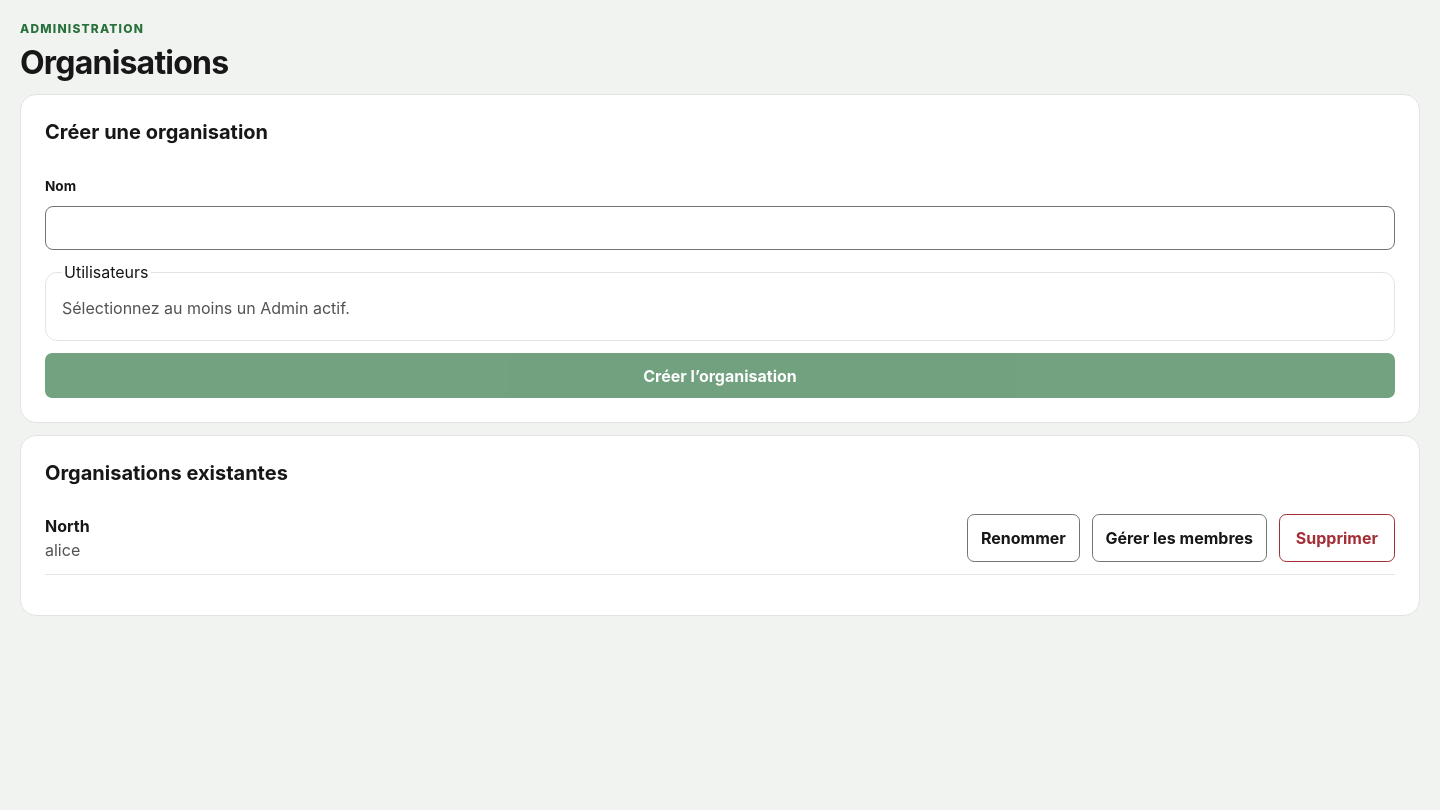
Test case: shows deletion only to a Superadmin and removes the organization
Expected: the text "North" is shown, [45, 516, 90, 536]
Click the button "Supprimer" at (1337, 538), box [1279, 514, 1395, 562]
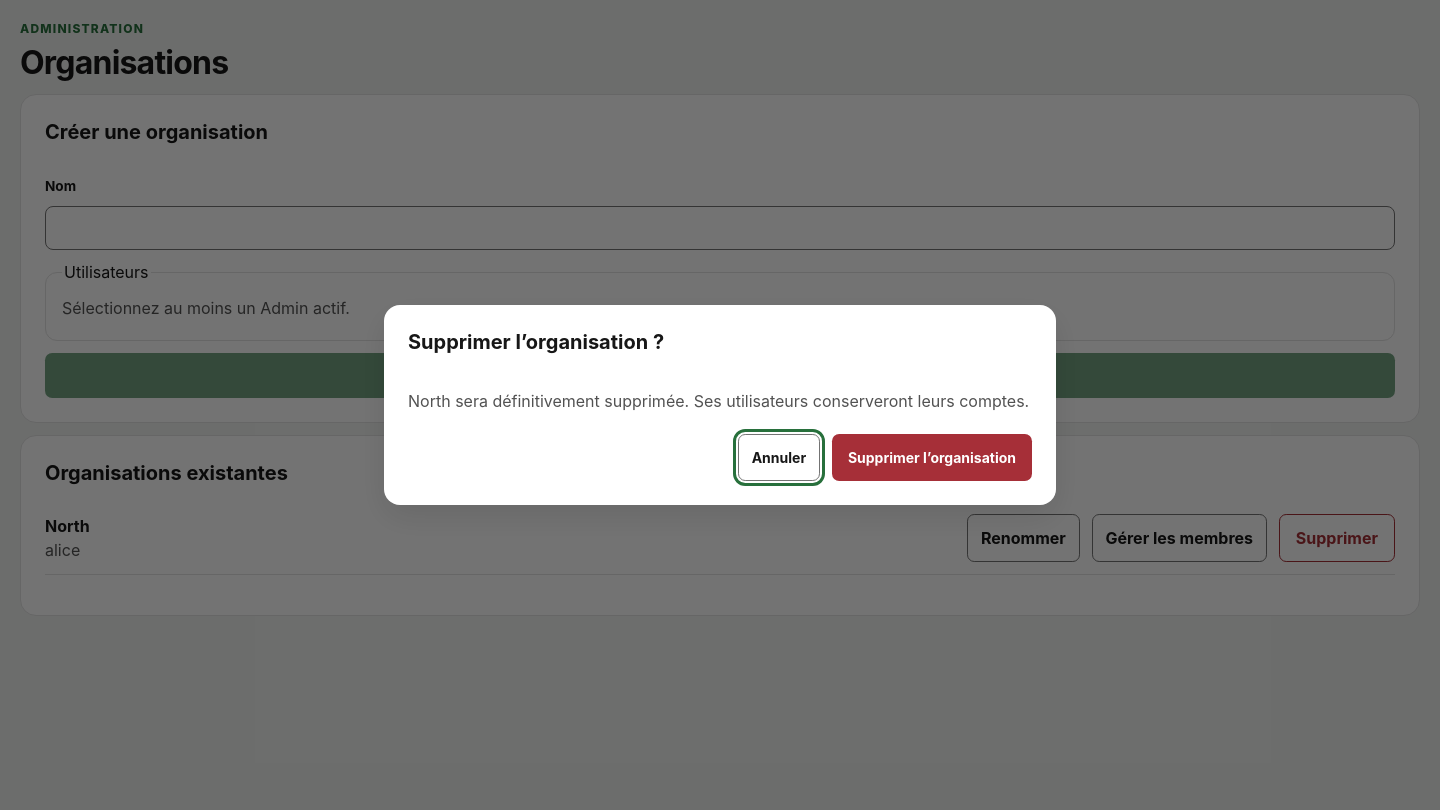
Expected: the dialog shows "utilisateurs conserveront leurs comptes", [451, 391, 1029, 411]
Click the button "Supprimer l’organisation" at (932, 458), box [832, 434, 1032, 481]
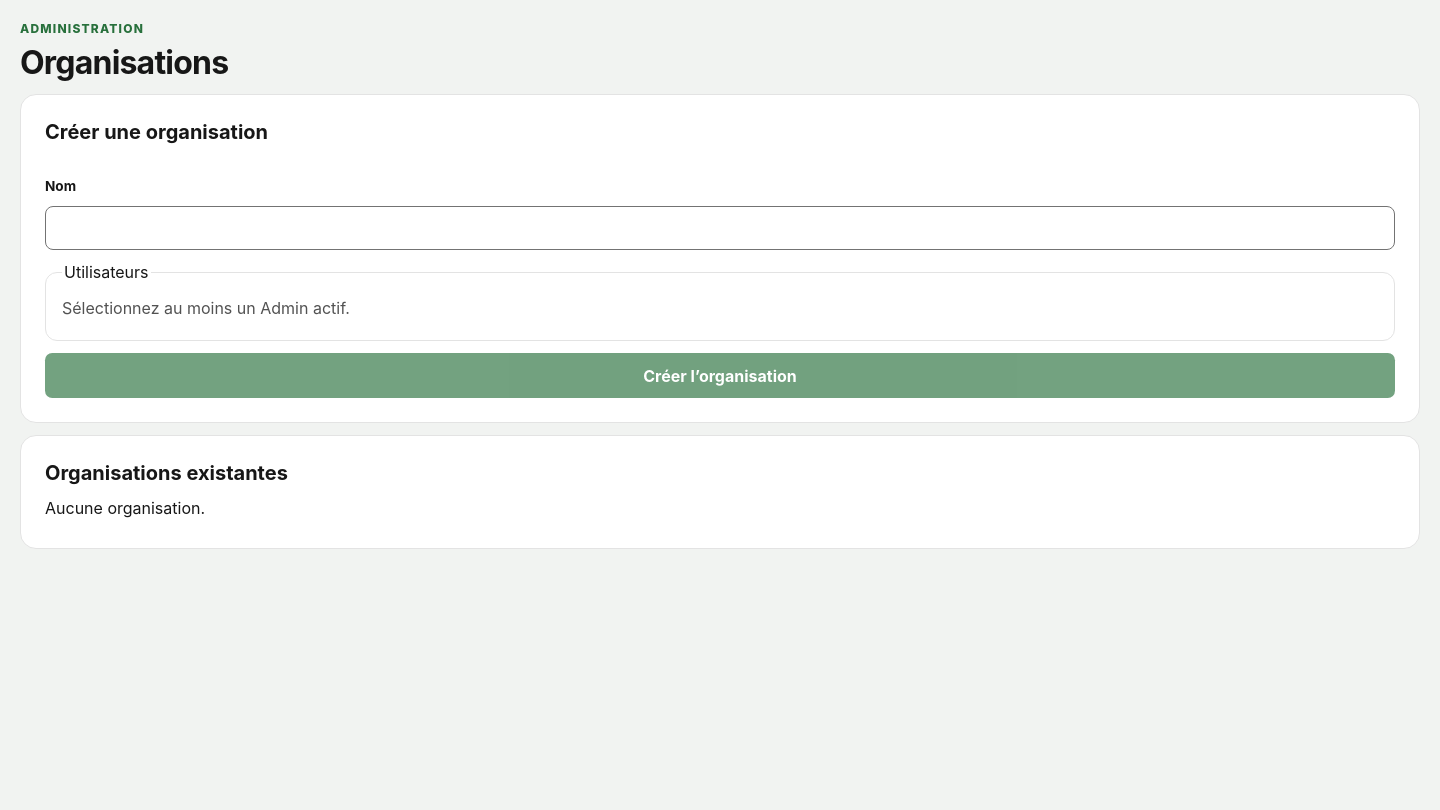
Expected: the text "North" is gone
Expected: the text "Aucune organisation." is shown, [45, 498, 205, 518]
